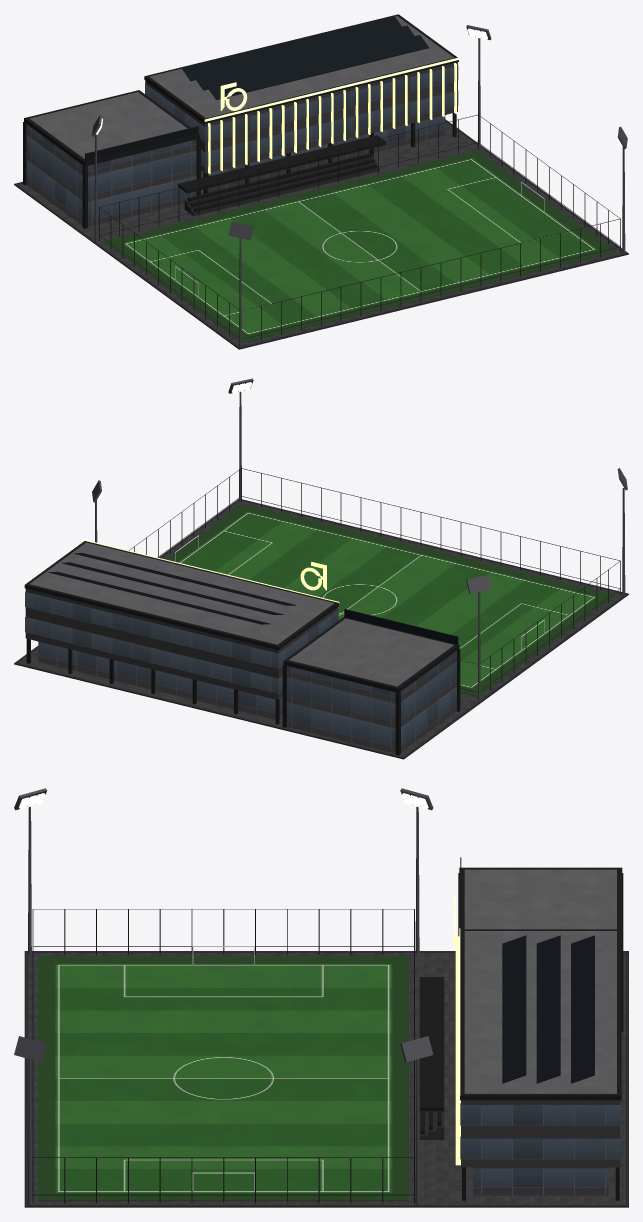
The model's file is training_L4.glb.
The picture shows the model from 3 angles, top to bottom: view 1: azimuth 30°, elevation 25°; view 2: azimuth 150°, elevation 25°; view 3: azimuth 270°, elevation 25°; orthographic projection. The views are drawn at different scales.
Visible parts, largest first — view 1: turf_train_training_L4, emissive_curtain_training_L4, black_metal_training_L4, roofing_training_L4, glass_training_L4, paving_training_L4, cladding_training_L4, emissive_led_training_L4, concrete_dark_training_L4, steel_training_L4; view 2: turf_train_training_L4, emissive_curtain_training_L4, roofing_training_L4, black_metal_training_L4, cladding_training_L4, paving_training_L4, glass_training_L4, concrete_dark_training_L4, steel_training_L4, emissive_led_training_L4; view 3: turf_train_training_L4, roofing_training_L4, paving_training_L4, black_metal_training_L4, emissive_curtain_training_L4, glass_training_L4, concrete_dark_training_L4, cladding_training_L4, steel_training_L4, emissive_led_training_L4.
Boxes of the visible parts, x1,y1,x2,y2 form: turf_train_training_L4: (104, 150, 614, 342); emissive_curtain_training_L4: (26, 65, 458, 226); black_metal_training_L4: (23, 14, 620, 340); roofing_training_L4: (29, 16, 453, 158); glass_training_L4: (85, 16, 428, 161); paving_training_L4: (18, 121, 622, 346); cladding_training_L4: (145, 62, 457, 173); emissive_led_training_L4: (204, 57, 458, 173); concrete_dark_training_L4: (14, 119, 628, 349); steel_training_L4: (92, 25, 627, 347); turf_train_training_L4: (167, 504, 615, 696); emissive_curtain_training_L4: (25, 592, 456, 753); roofing_training_L4: (29, 542, 453, 686); black_metal_training_L4: (24, 468, 620, 755); cladding_training_L4: (25, 588, 337, 699); paving_training_L4: (18, 500, 623, 756); glass_training_L4: (48, 553, 458, 644); concrete_dark_training_L4: (14, 499, 628, 759); steel_training_L4: (92, 378, 627, 700); emissive_led_training_L4: (84, 540, 339, 603); turf_train_training_L4: (38, 956, 409, 1200); roofing_training_L4: (464, 869, 616, 1093); paving_training_L4: (28, 952, 625, 1204); black_metal_training_L4: (32, 857, 623, 1203); emissive_curtain_training_L4: (460, 1100, 621, 1195); glass_training_L4: (502, 935, 594, 1083); concrete_dark_training_L4: (24, 951, 628, 1207); cladding_training_L4: (461, 1100, 620, 1168); steel_training_L4: (14, 788, 433, 1204); emissive_led_training_L4: (453, 895, 460, 1165).
Size of the model in its own units: 60.05 by 17.58 by 59.64.
Materials: 13 (6 with a texture image).
